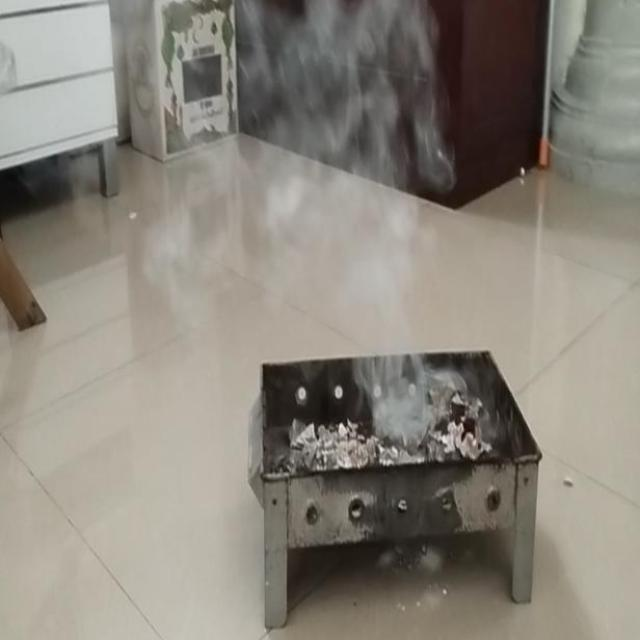fire: (230, 0, 440, 373)
